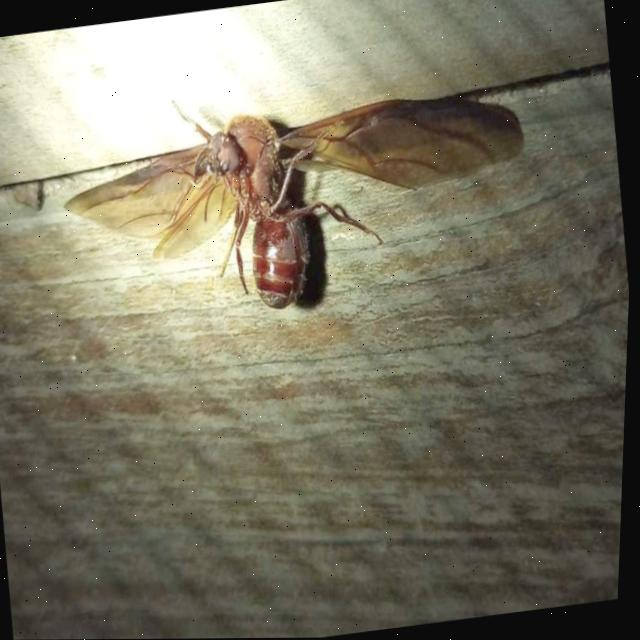Dead-Female-Alate: (48, 55, 546, 337)
